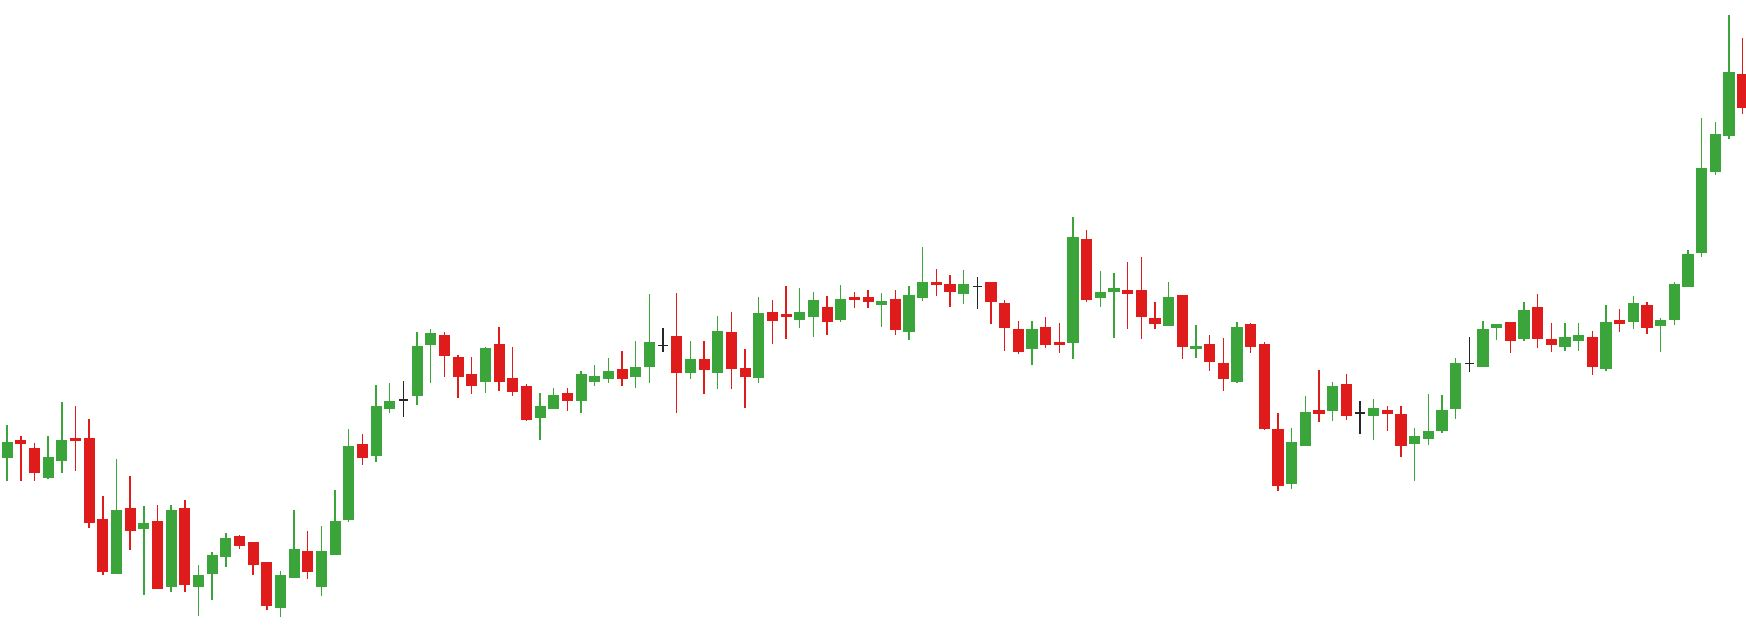buy: (398, 364, 549, 442), (192, 547, 287, 623)
sell: (916, 221, 1096, 325)
